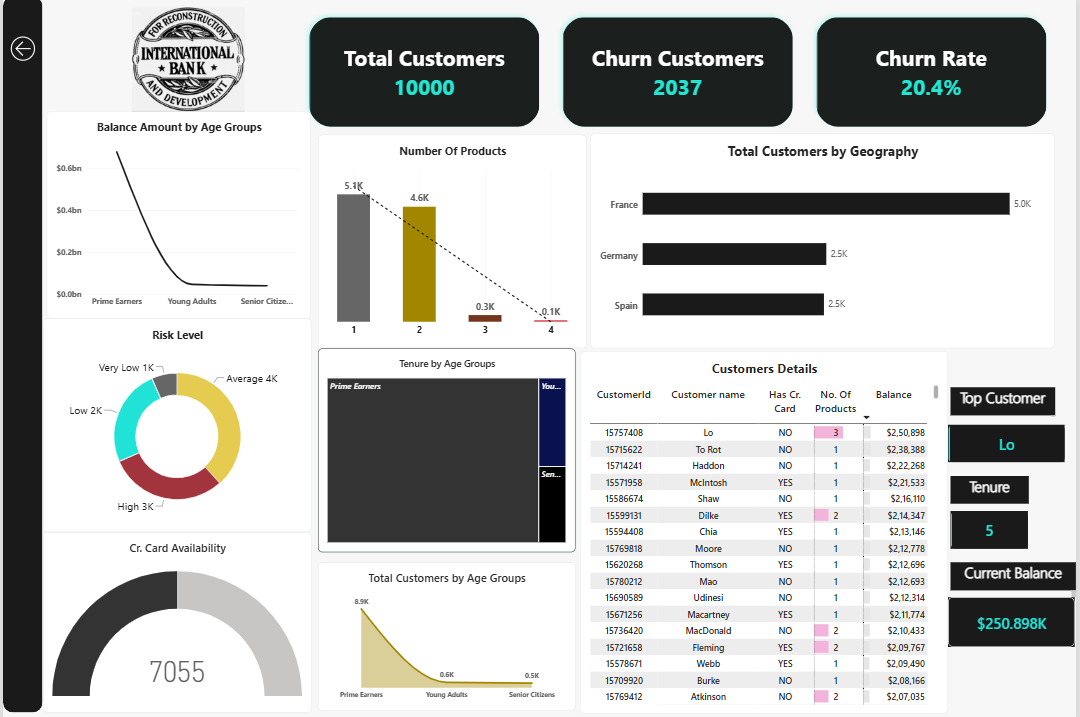

What the dashboard file says about the page in this screenshot:
{"tool":"powerbi","page":{"name":"Customer Details ","canvas":[1950,1323],"ordinal":0},"visuals":[{"type":"cardVisual","fields":{"Data":["Measure Table.Total Customers","Measure Table.Churn Customers","Measure Table.Churn Rate"]},"box":[541,23,1372.8,231.3],"z":0},{"type":"image","box":[174.4,20.5,324.3,203.2],"z":1},{"type":"clusteredBarChart","fields":{"Category":["Bank_Churn.Geography"],"Y":["Measure Table.Total Customers"]},"box":[1068,250,844,390],"z":2},{"type":"tableEx","title":"Customers Details ","fields":{"Values":["Bank_Churn.CustomerId","Bank_Churn.Customer name ","Bank_Churn.HasCrCard","Sum(Bank_Churn.NumOfProducts)","Sum(Bank_Churn.Balance)"]},"box":[1050.4,644.7,668,659.4],"z":3},{"type":"textbox","title":"Tenure","box":[1722,872,142,50],"z":5},{"type":"textbox","title":"Top Customer ","box":[1722,712,190,54],"z":6},{"type":"textbox","title":"Current Balance","box":[1722,1030,228,64],"z":7},{"type":"cardVisual","fields":{"Data":["Min(Bank_Churn.Customer name )"]},"box":[1718,780,212,68],"z":8},{"type":"cardVisual","fields":{"Data":["Median(Bank_Churn.Tenure)"]},"box":[1722,936,141.6,69.8],"z":9},{"type":"cardVisual","fields":{"Data":["Max(Bank_Churn.Balance)"]},"box":[1718,1094,230,90],"z":10},{"type":"lineChart","title":" Balance Amount by Age Groups","fields":{"Category":["Bank_Churn.Age Group"],"Y":["Sum(Bank_Churn.Balance)"]},"box":[80,209.3,480.1,377.5],"z":12},{"type":"donutChart","title":"Risk Level ","fields":{"Category":["Bank_Churn.Risk Level"],"Y":["Measure Table.Total Customers"]},"box":[72,586,488.3,387.8],"z":13},{"type":"clusteredColumnChart","title":"Number Of Products ","fields":{"Category":["Bank_Churn.NumOfProducts"],"Y":["Measure Table.Total Customers"]},"box":[572,252,488.3,387.8],"z":14},{"type":"treemap","title":" Tenure by Age Groups ","fields":{"Group":["Bank_Churn.Age Group"],"Values":["CountNonNull(Bank_Churn.Tenure)"]},"box":[572,640,468,370],"z":15},{"type":"shape","box":[0,0,71.8,1302.9],"z":16},{"type":"gauge","title":"Cr. Card Availability ","fields":{"Y":["Sum(Bank_Churn.Cr.Card Availability)"]},"box":[72,976,488,328],"z":17},{"type":"actionButton","box":[0,52,72,86],"z":19},{"type":"areaChart","title":" Total Customers by Age Groups ","fields":{"Category":["Bank_Churn.Age Group"],"Y":["Measure Table.Total Customers"]},"box":[572,1030,468,270],"z":20}]}

Visuals, with their boxes on the page's 1950x1323 design canvas (x1, y1, x2, y2). These are canvas units, not pixel positions in the 1080x717 screenshot, which may show the page scaled, cropped or inside an application window:
cardVisual - Measure Table.Total Customers x Measure Table.Churn Customers: box=[541, 23, 1914, 254]
image: box=[174, 20, 499, 224]
clusteredBarChart - Bank_Churn.Geography x Measure Table.Total Customers: box=[1068, 250, 1912, 640]
"Customers Details " tableEx: box=[1050, 645, 1718, 1304]
"Tenure" textbox: box=[1722, 872, 1864, 922]
"Top Customer " textbox: box=[1722, 712, 1912, 766]
"Current Balance" textbox: box=[1722, 1030, 1950, 1094]
cardVisual - Min(Bank_Churn.Customer name ): box=[1718, 780, 1930, 848]
cardVisual - Median(Bank_Churn.Tenure): box=[1722, 936, 1864, 1006]
cardVisual - Max(Bank_Churn.Balance): box=[1718, 1094, 1948, 1184]
" Balance Amount by Age Groups" lineChart: box=[80, 209, 560, 587]
"Risk Level " donutChart: box=[72, 586, 560, 974]
"Number Of Products " clusteredColumnChart: box=[572, 252, 1060, 640]
" Tenure by Age Groups " treemap: box=[572, 640, 1040, 1010]
shape: box=[0, 0, 72, 1303]
"Cr. Card Availability " gauge: box=[72, 976, 560, 1304]
actionButton: box=[0, 52, 72, 138]
" Total Customers by Age Groups " areaChart: box=[572, 1030, 1040, 1300]
